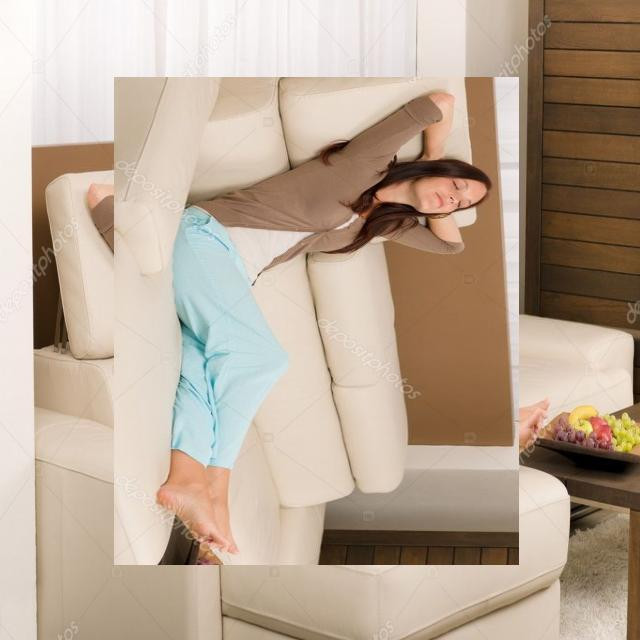NotFall: (169, 96, 513, 590)
